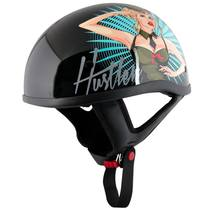with_helmet: (20, 2, 195, 113)
